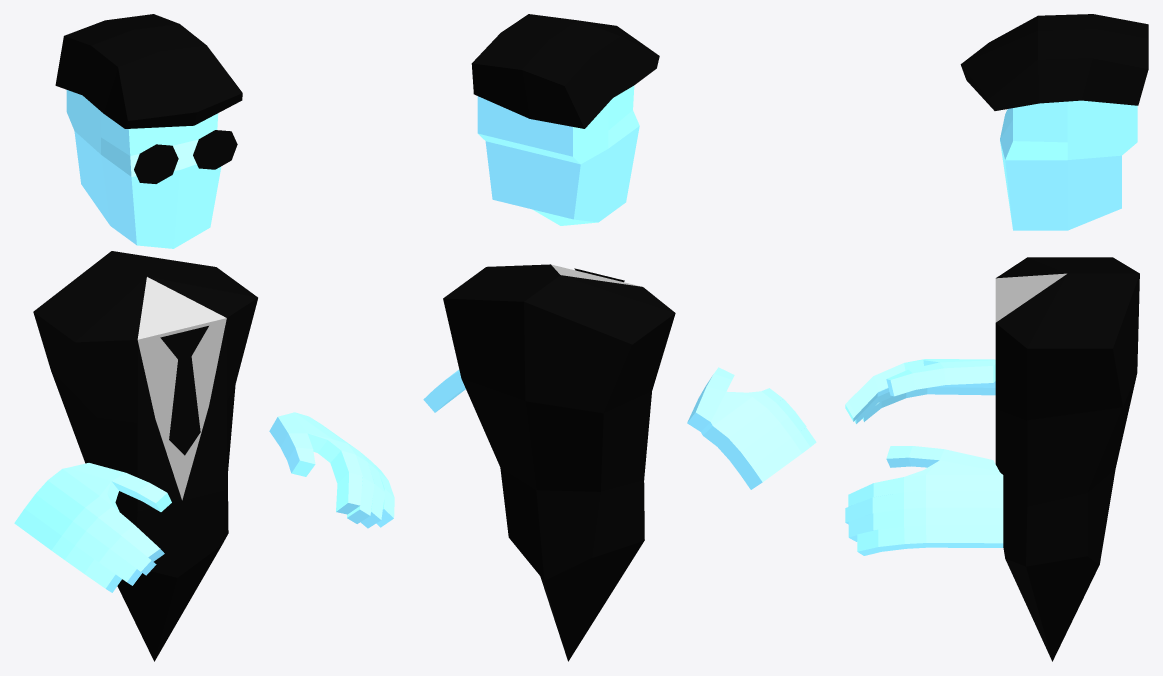
The model's file is MetaPupo.fbx.
The picture shows the model from 3 angles, left to right: view 1: azimuth 30°, elevation 25°; view 2: azimuth 150°, elevation 25°; view 3: azimuth 270°, elevation 25°; orthographic projection. The views are drawn at different scales.
Visible parts, largest first — view 1: Cube.001, Cube.002, Cube, Cube.004, Cube.003, Plane.001, Plane; view 2: Cube.001, Cube, Cube.002, Cube.004, Cube.003; view 3: Cube.001, Cube, Cube.002, Cube.003, Cube.004.
Boxes of the visible parts, x1,y1,x2,y2 form: Cube.001: (33, 251, 257, 661); Cube.002: (55, 14, 242, 128); Cube: (66, 90, 221, 248); Cube.004: (14, 463, 171, 592); Cube.003: (269, 412, 394, 528); Plane.001: (160, 326, 208, 455); Plane: (134, 130, 237, 183); Cube.001: (443, 264, 675, 661); Cube: (477, 85, 639, 225); Cube.002: (471, 14, 659, 128); Cube.004: (687, 367, 816, 489); Cube.003: (423, 369, 465, 412); Cube.001: (995, 257, 1139, 661); Cube: (1000, 100, 1137, 230); Cube.002: (960, 14, 1148, 110); Cube.003: (845, 446, 1003, 555); Cube.004: (845, 359, 995, 423).
Size of the model in its own units: 408 by 318 by 732.
